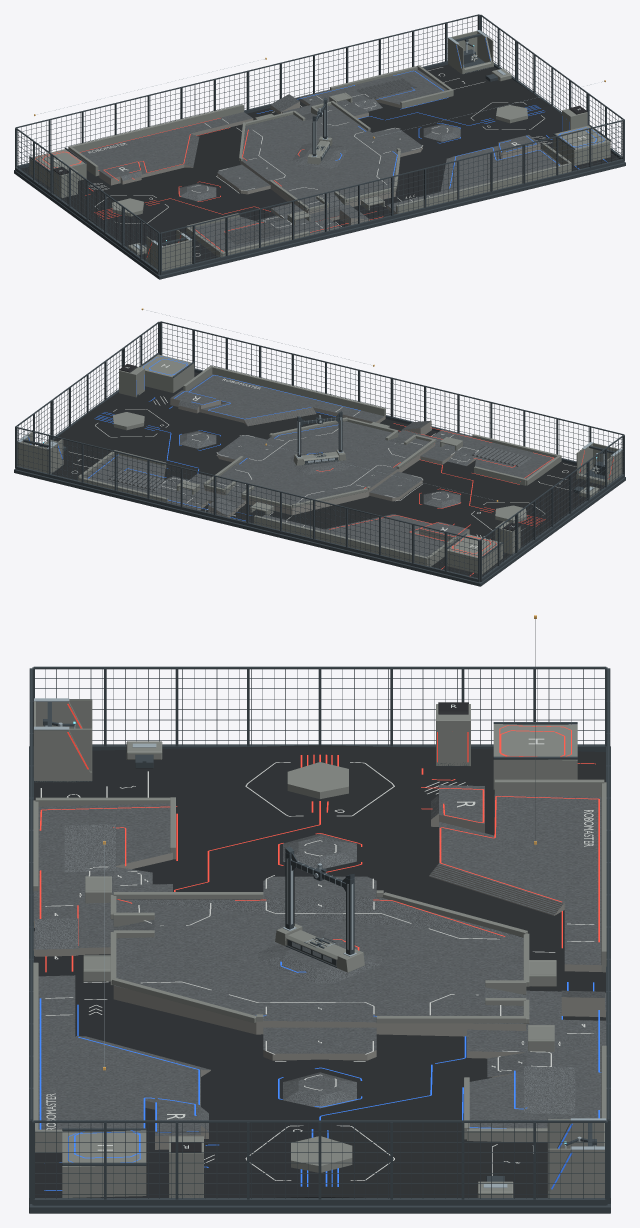
File: map-rmuc2026-ch4v2.glb
3 views of the same model, one above another, from view 1: azimuth 30°, elevation 25°; view 2: azimuth 150°, elevation 25°; view 3: azimuth 270°, elevation 25° (orthographic). The views are drawn at different scales.
Visible parts, largest first — view 1: ArenaChapter4_GraphiteArmor, ArenaChapter4_HighlandAsphalt.001, ArenaChapter4_FieldBlack.001, ArenaChapter4_ProtectiveMetal.001, ArenaChapter4_ConcreteSide.001, ArenaChapter4_WhiteFieldPaint.001, ResourceStation.001_ProtectiveMetal.001, ArenaChapter4_RedFieldPaint.001, ArenaChapter4_BlueFieldPaint.001, RuneGantry_GraphiteArmor, ResourceStation.001_GraphiteArmor; view 2: ArenaChapter4_GraphiteArmor, ArenaChapter4_HighlandAsphalt.001, ArenaChapter4_FieldBlack.001, ArenaChapter4_ProtectiveMetal.001, ArenaChapter4_ConcreteSide.001, ArenaChapter4_WhiteFieldPaint.001, ArenaChapter4_BlueFieldPaint.001, ResourceStation_ProtectiveMetal.001, ArenaChapter4_RedFieldPaint.001, RuneGantry_GraphiteArmor, ResourceStation.001_ProtectiveMetal.001; view 3: ArenaChapter4_HighlandAsphalt.001, ArenaChapter4_FieldBlack.001, ArenaChapter4_GraphiteArmor, ArenaChapter4_ProtectiveMetal.001, ArenaChapter4_ConcreteSide.001, ArenaChapter4_WhiteFieldPaint.001, ResourceStation_ProtectiveMetal.001, ArenaChapter4_RedFieldPaint.001, ResourceStation.001_ProtectiveMetal.001, ArenaChapter4_BlueFieldPaint.001, RuneGantry_GraphiteArmor, RuneGantry_BrushedTitanium (+1 smaller).
Part boxes in pixels (bbox=[...]): ArenaChapter4_GraphiteArmor: bbox=[14, 14, 625, 279]; ArenaChapter4_HighlandAsphalt.001: bbox=[79, 69, 561, 251]; ArenaChapter4_FieldBlack.001: bbox=[20, 64, 619, 263]; ArenaChapter4_ProtectiveMetal.001: bbox=[29, 36, 610, 270]; ArenaChapter4_ConcreteSide.001: bbox=[97, 97, 540, 256]; ArenaChapter4_WhiteFieldPaint.001: bbox=[53, 67, 586, 256]; ResourceStation.001_ProtectiveMetal.001: bbox=[448, 31, 493, 73]; ArenaChapter4_RedFieldPaint.001: bbox=[35, 118, 383, 251]; ArenaChapter4_BlueFieldPaint.001: bbox=[257, 70, 607, 188]; RuneGantry_GraphiteArmor: bbox=[312, 97, 330, 160]; ResourceStation.001_GraphiteArmor: bbox=[448, 33, 493, 74]; ArenaChapter4_GraphiteArmor: bbox=[14, 321, 625, 586]; ArenaChapter4_HighlandAsphalt.001: bbox=[84, 374, 554, 556]; ArenaChapter4_FieldBlack.001: bbox=[52, 372, 604, 577]; ArenaChapter4_ProtectiveMetal.001: bbox=[18, 354, 613, 574]; ArenaChapter4_ConcreteSide.001: bbox=[163, 398, 476, 565]; ArenaChapter4_WhiteFieldPaint.001: bbox=[69, 364, 576, 548]; ArenaChapter4_BlueFieldPaint.001: bbox=[88, 356, 360, 520]; ResourceStation_ProtectiveMetal.001: bbox=[576, 443, 622, 485]; ArenaChapter4_RedFieldPaint.001: bbox=[316, 423, 553, 575]; RuneGantry_GraphiteArmor: bbox=[297, 411, 342, 464]; ResourceStation.001_ProtectiveMetal.001: bbox=[17, 436, 63, 473]; ArenaChapter4_HighlandAsphalt.001: bbox=[33, 785, 606, 1135]; ArenaChapter4_FieldBlack.001: bbox=[34, 745, 605, 1197]; ArenaChapter4_GraphiteArmor: bbox=[29, 666, 610, 1213]; ArenaChapter4_ProtectiveMetal.001: bbox=[33, 699, 606, 1197]; ArenaChapter4_ConcreteSide.001: bbox=[33, 813, 606, 1151]; ArenaChapter4_WhiteFieldPaint.001: bbox=[40, 738, 594, 1180]; ResourceStation_ProtectiveMetal.001: bbox=[33, 701, 92, 781]; ArenaChapter4_RedFieldPaint.001: bbox=[39, 725, 599, 972]; ResourceStation.001_ProtectiveMetal.001: bbox=[547, 1123, 604, 1197]; ArenaChapter4_BlueFieldPaint.001: bbox=[39, 961, 601, 1190]; RuneGantry_GraphiteArmor: bbox=[285, 846, 354, 967]; RuneGantry_BrushedTitanium: bbox=[283, 858, 357, 962].
Size of the model in its own units: 28.25 by 4.18 by 15.25.
Materials: 15 (1 with a texture image).
